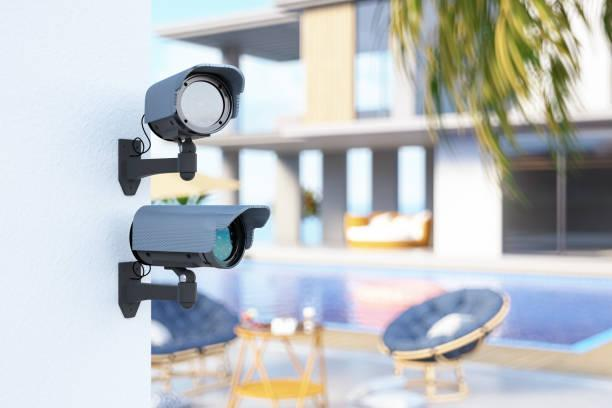camera: (123, 174, 276, 335), (115, 52, 250, 187)
